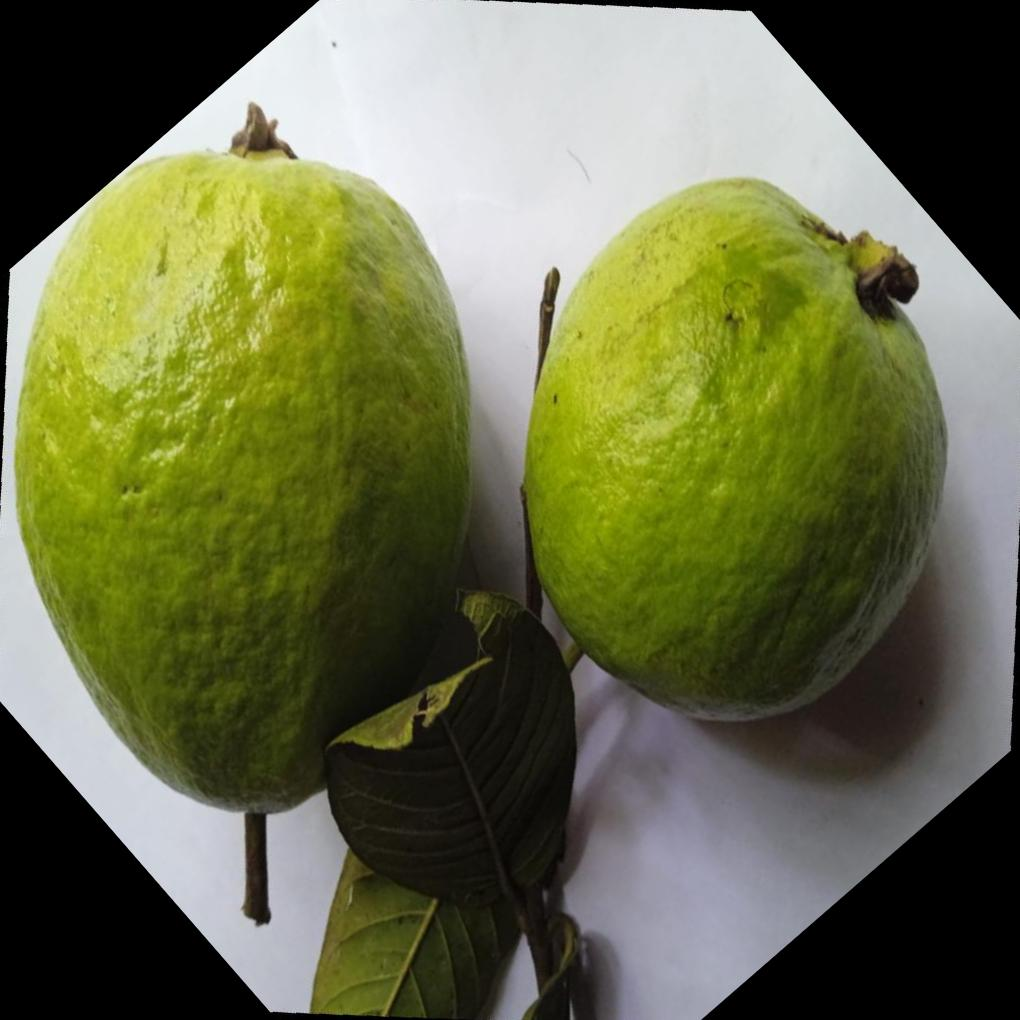FreshGuava: (7, 103, 491, 823), (520, 175, 951, 727)
